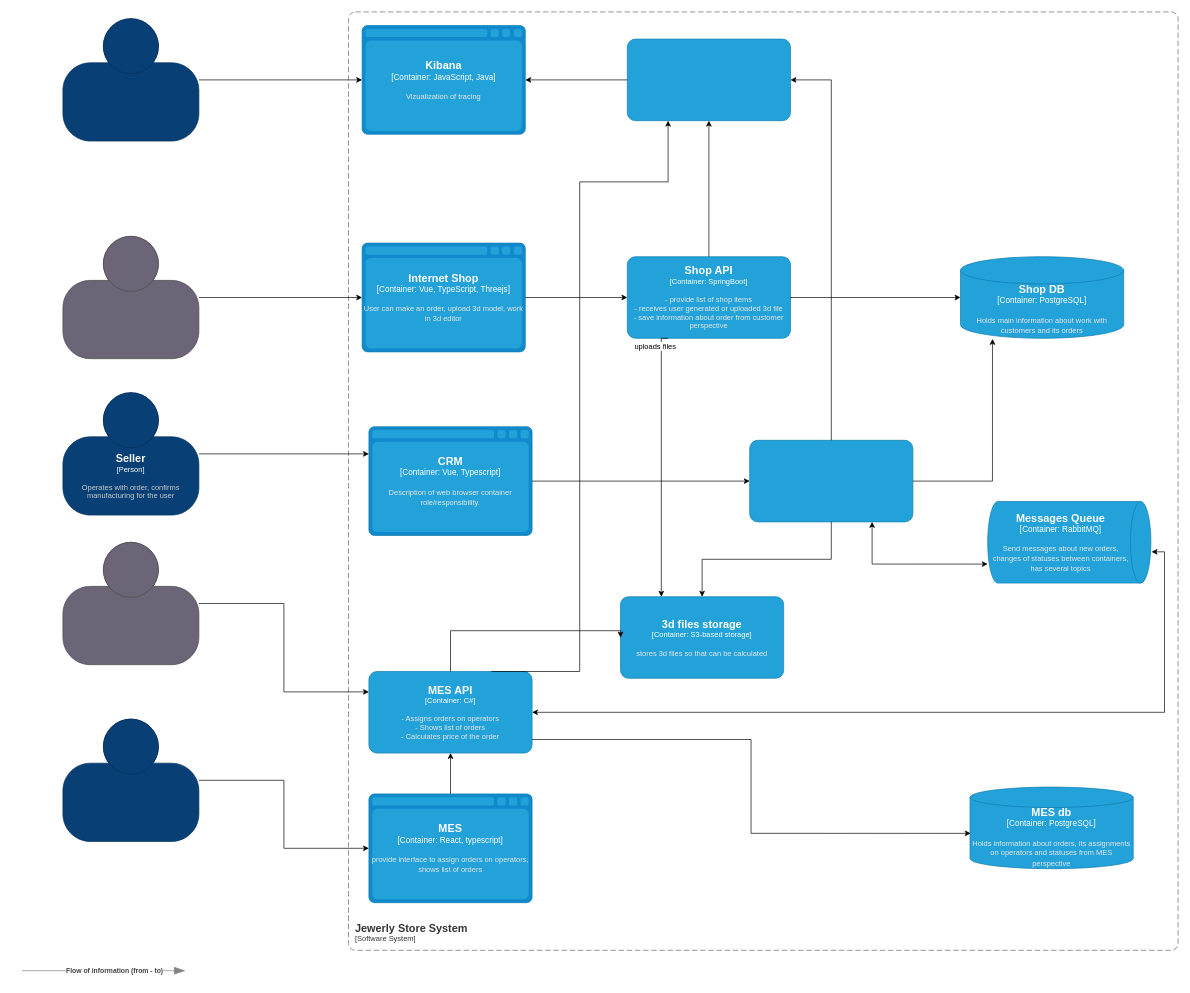
Image size: 1190x993. Some labels were removed from this diagram. Here are the shapes that lost their labels. From the top down, the centre of each, then its label:
point (130, 79): Person name [Person] Description of person.
point (708, 79): APM Agent [Container: Java] Collect tracing info
point (130, 297): Customer [Person] Description of external person.
point (831, 481): CRM API [Container: SpringBoot] Description of container role/responsibility.
point (130, 603): API user [Person] Description of external person.
point (130, 780): Operator [Person] Takes order in work, manufactures jewerly
